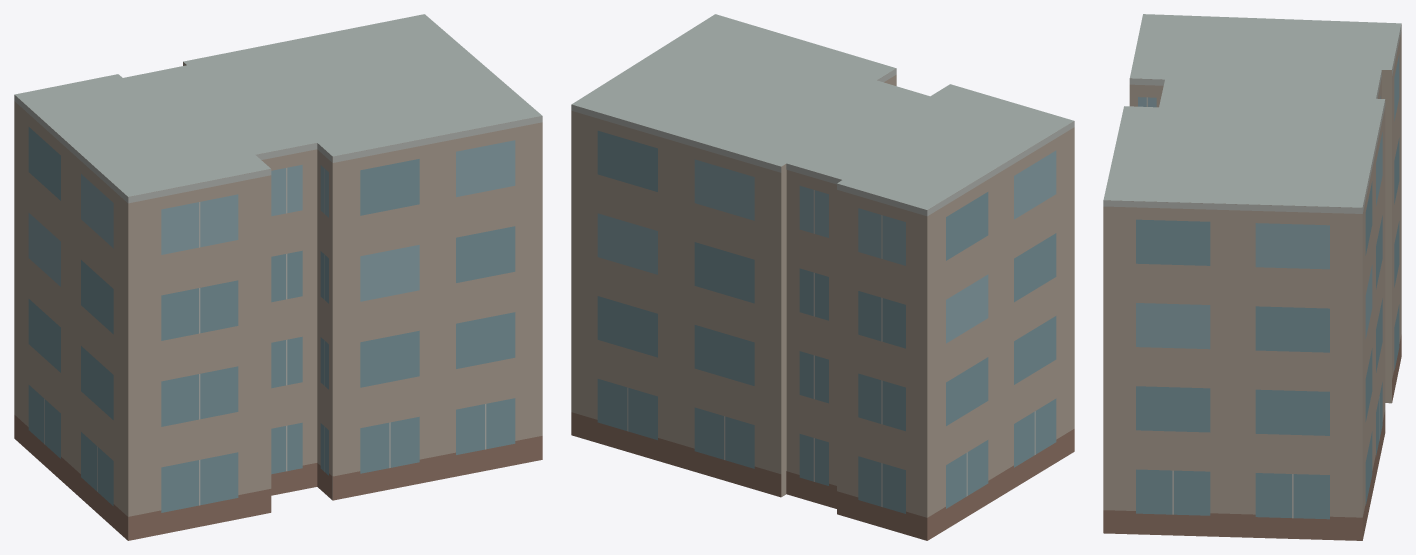
Rendered from survey-upis-32705363.glb.
The picture shows the model from 3 angles, left to right: view 1: azimuth 30°, elevation 25°; view 2: azimuth 150°, elevation 25°; view 3: azimuth 270°, elevation 25°; orthographic projection. The views are drawn at different scales.
Visible parts, largest first — view 1: survey-upis-32705363.tmp; view 2: survey-upis-32705363.tmp; view 3: survey-upis-32705363.tmp.
Part boxes in pixels (x1,y1,x2,y2): survey-upis-32705363.tmp: [14, 14, 542, 540]; survey-upis-32705363.tmp: [571, 14, 1074, 540]; survey-upis-32705363.tmp: [1103, 14, 1401, 540].
Bounding box in the file's own units: 16.16 × 12.95 × 10.51.
